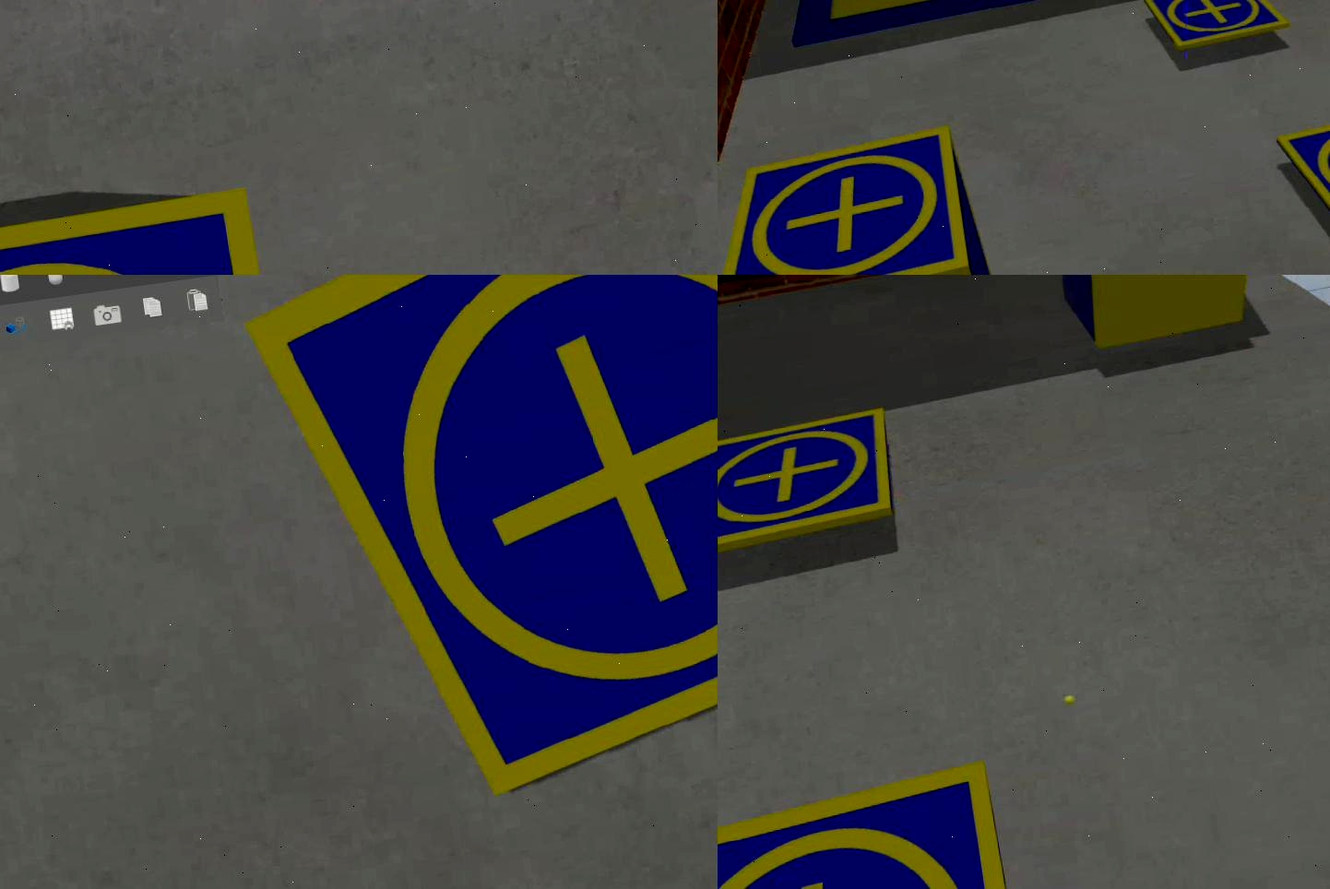large_base: (778, 1, 1091, 49)
small_base: (232, 275, 718, 826), (718, 756, 1021, 889), (718, 123, 974, 275), (718, 411, 903, 561), (1278, 99, 1330, 245), (1143, 1, 1289, 53)
